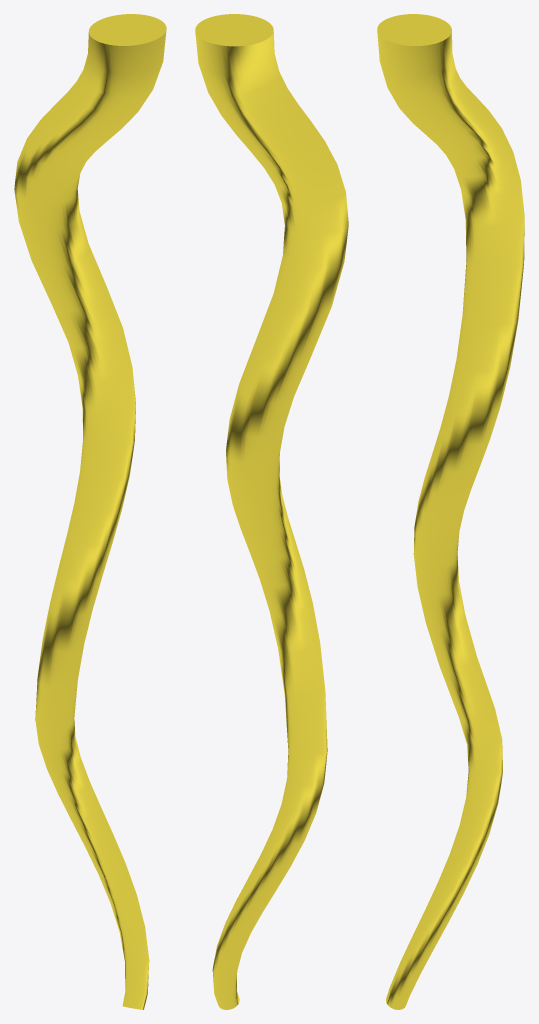
File: grating cheese_particle_blendshape.fbx
3 renders of one model, left to right at view 1: azimuth 30°, elevation 25°; view 2: azimuth 210°, elevation 25°; view 3: azimuth 270°, elevation 25°, orthographic.
Parts seen in each view (by area): view 1: grating cheese scale; view 2: grating cheese scale; view 3: grating cheese scale.
Boxes of the visible parts, x1,y1,x2,y2 form: grating cheese scale: (14, 14, 166, 1009); grating cheese scale: (195, 14, 348, 1009); grating cheese scale: (377, 14, 524, 1009).
Bounding box in the file's own units: 18.33 × 160 × 21.85.
